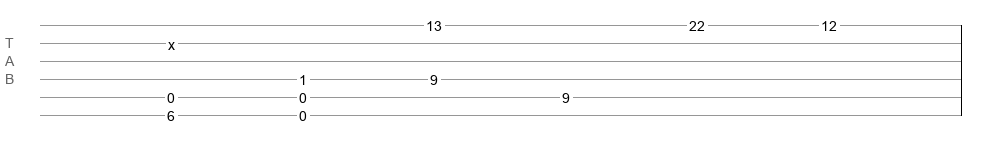0: (167, 90, 175, 100), (299, 90, 307, 100), (299, 108, 307, 118)
1: (299, 72, 307, 82)
12: (821, 18, 837, 28)
13: (426, 18, 442, 28)
22: (689, 18, 705, 28)
6: (167, 108, 175, 118)
9: (430, 72, 438, 82), (562, 90, 570, 100)
x: (168, 37, 175, 45)
